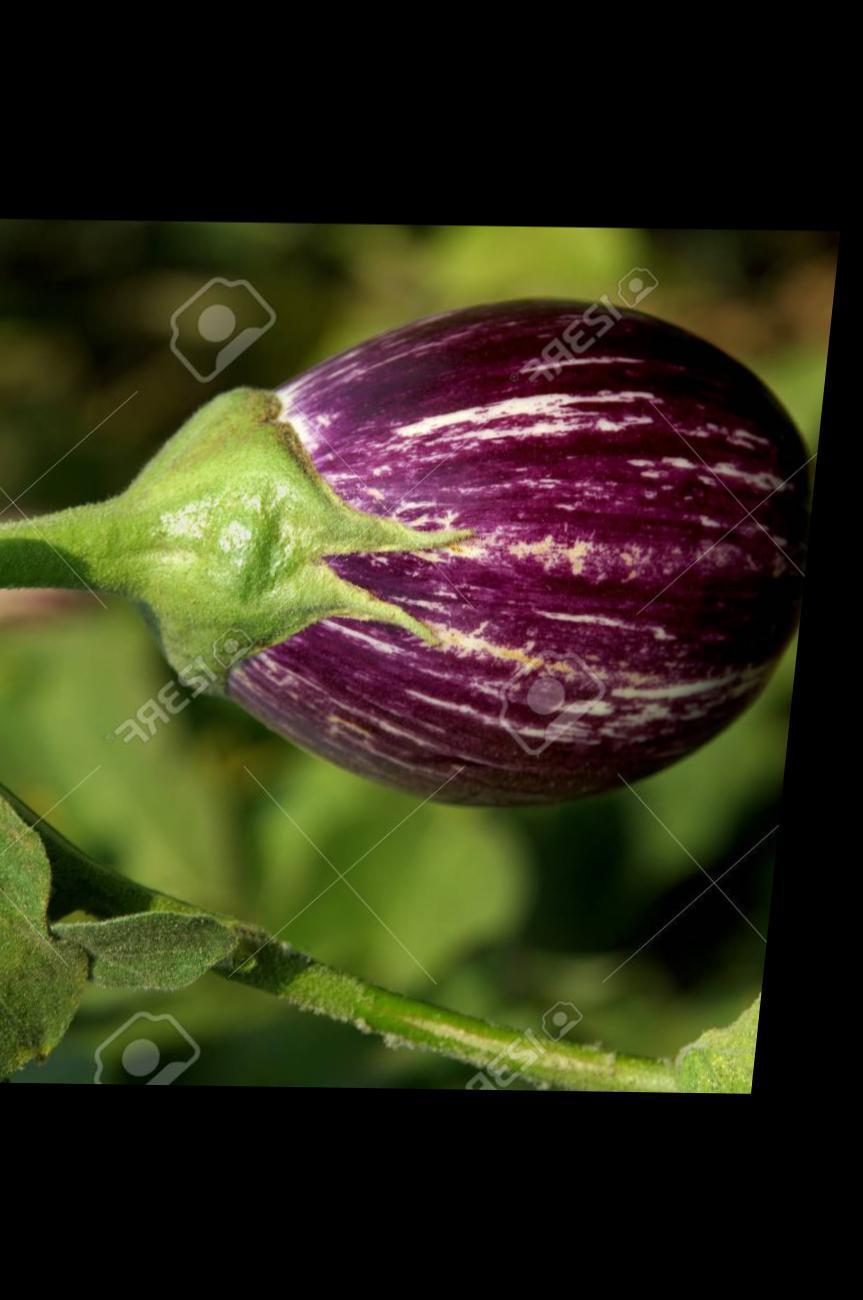eggplant: (0, 273, 840, 844)
